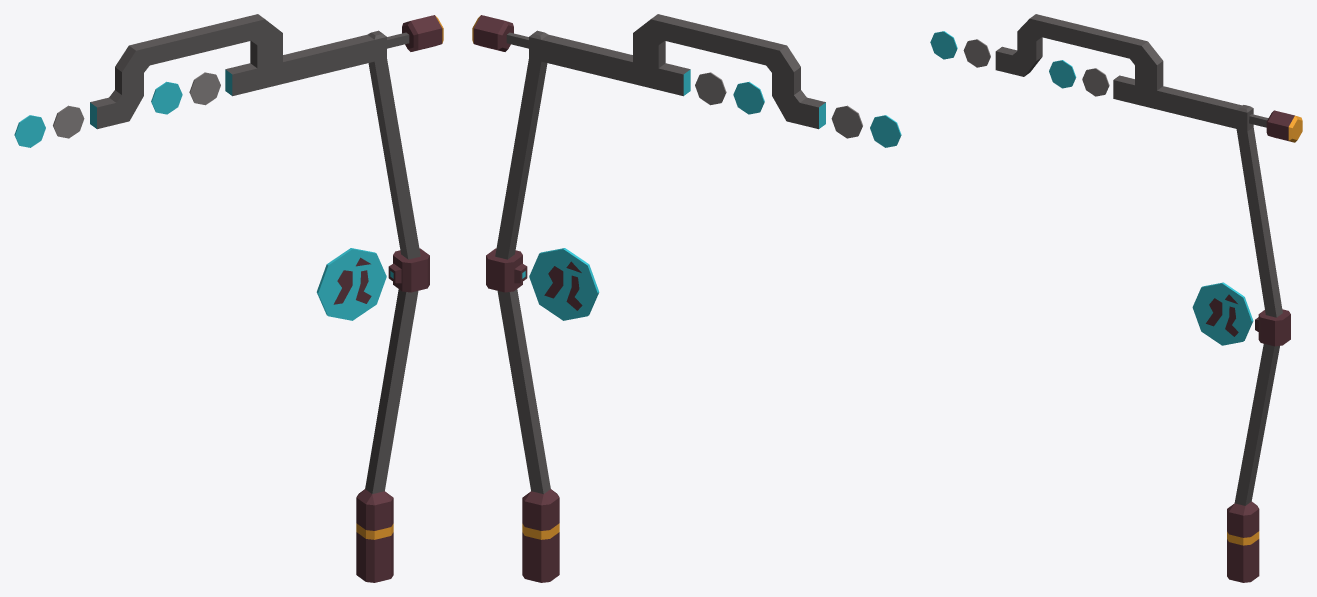
Rendered from scifi-scifi-traffic-lights-long-a.glb.
The picture shows the model from 3 angles, left to right: view 1: azimuth 30°, elevation 25°; view 2: azimuth 150°, elevation 25°; view 3: azimuth 330°, elevation 25°; orthographic projection. The views are drawn at different scales.
Parts seen in each view (by area): view 1: scifi-traffic-lights-long-a; view 2: scifi-traffic-lights-long-a; view 3: scifi-traffic-lights-long-a.
Part boxes in pixels (x1,y1,x2,y2): scifi-traffic-lights-long-a: (14,14,443,582); scifi-traffic-lights-long-a: (472,14,901,582); scifi-traffic-lights-long-a: (930,14,1302,582).
Size of the model in its own units: 7.17 by 9.5 by 0.4698.
